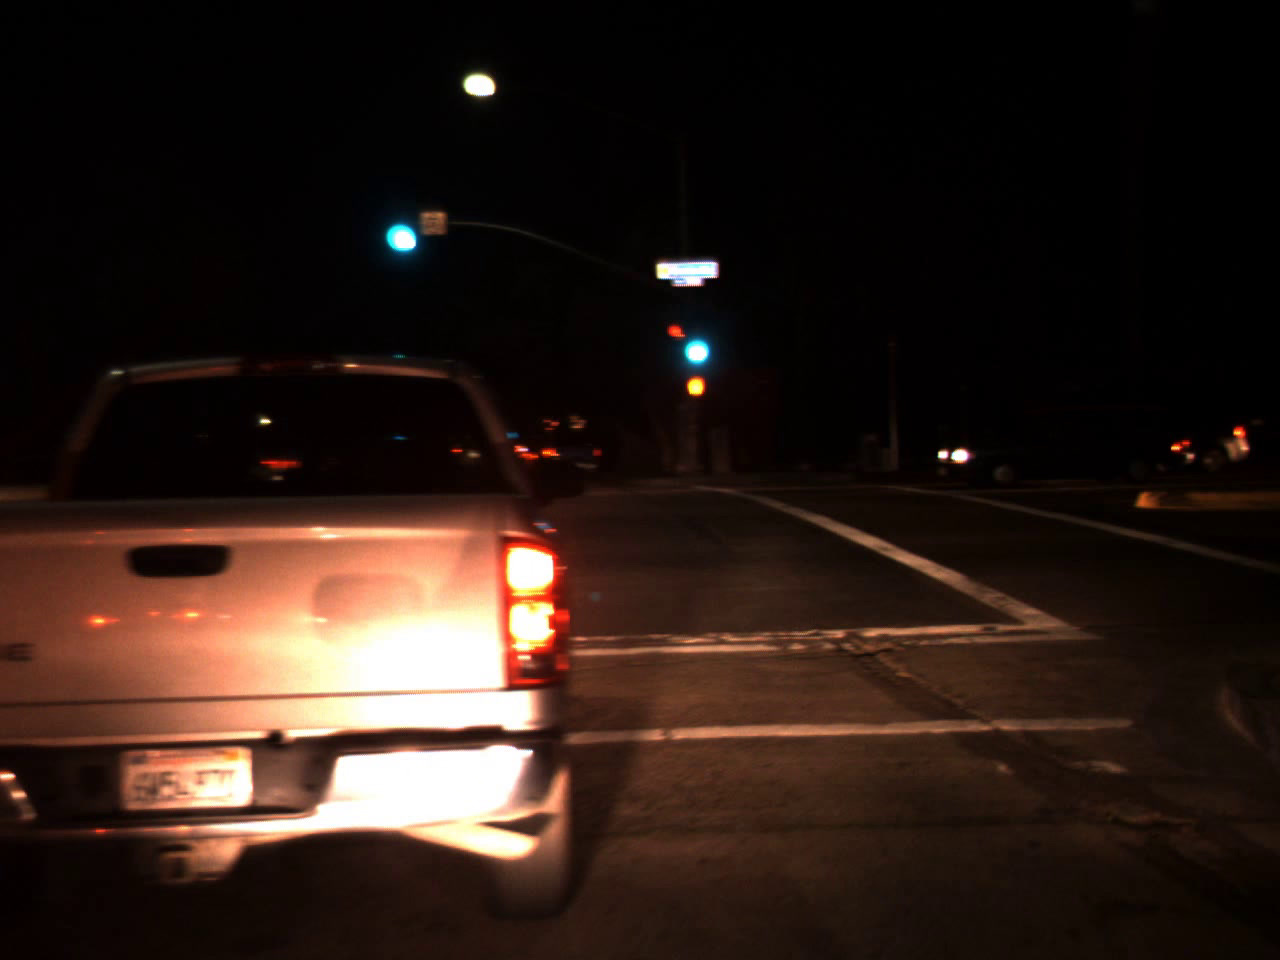go: (374, 188, 424, 263), (675, 308, 714, 374)
